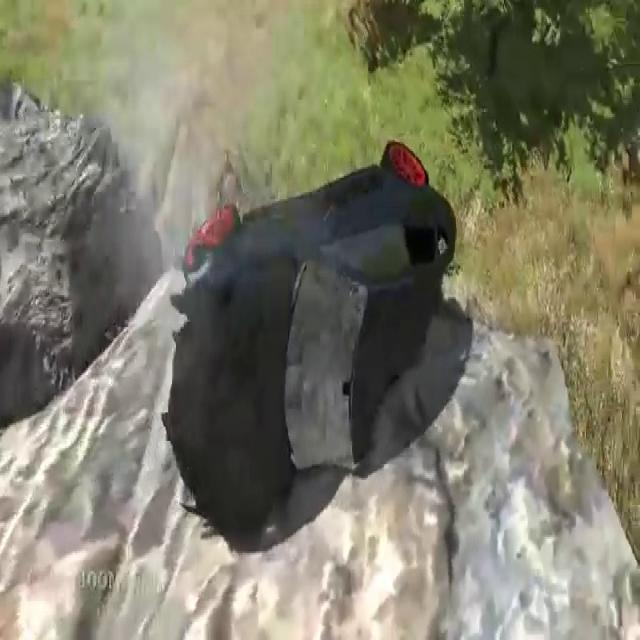severe: (158, 135, 460, 548)
